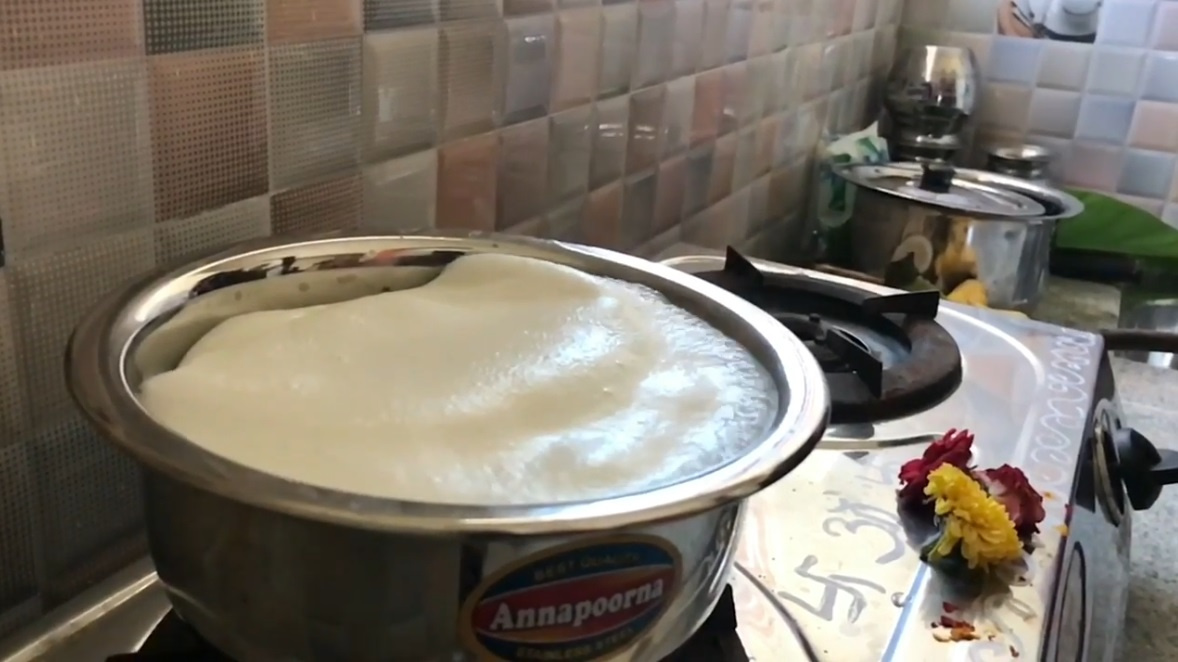Steaming: (66, 223, 815, 594)
